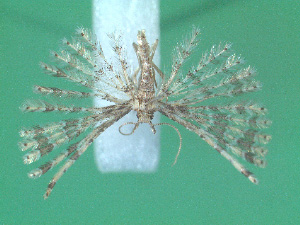Alucitidae: (13, 21, 274, 199)
moth: (15, 23, 276, 201)
